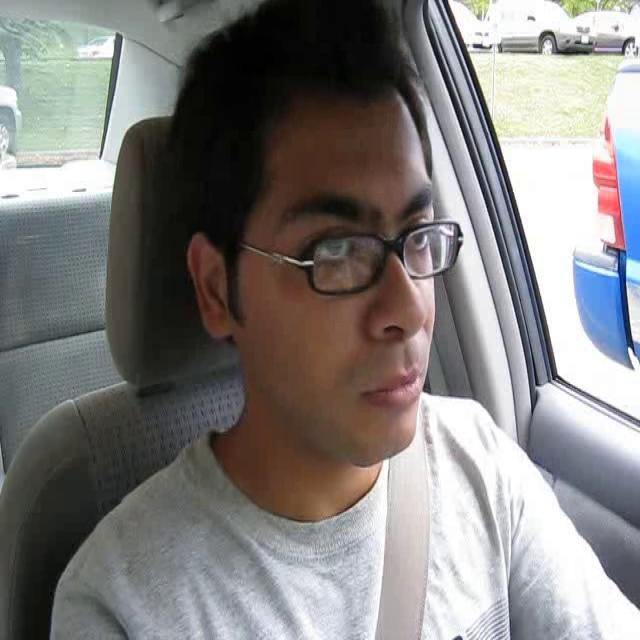close: (359, 364, 424, 411)
